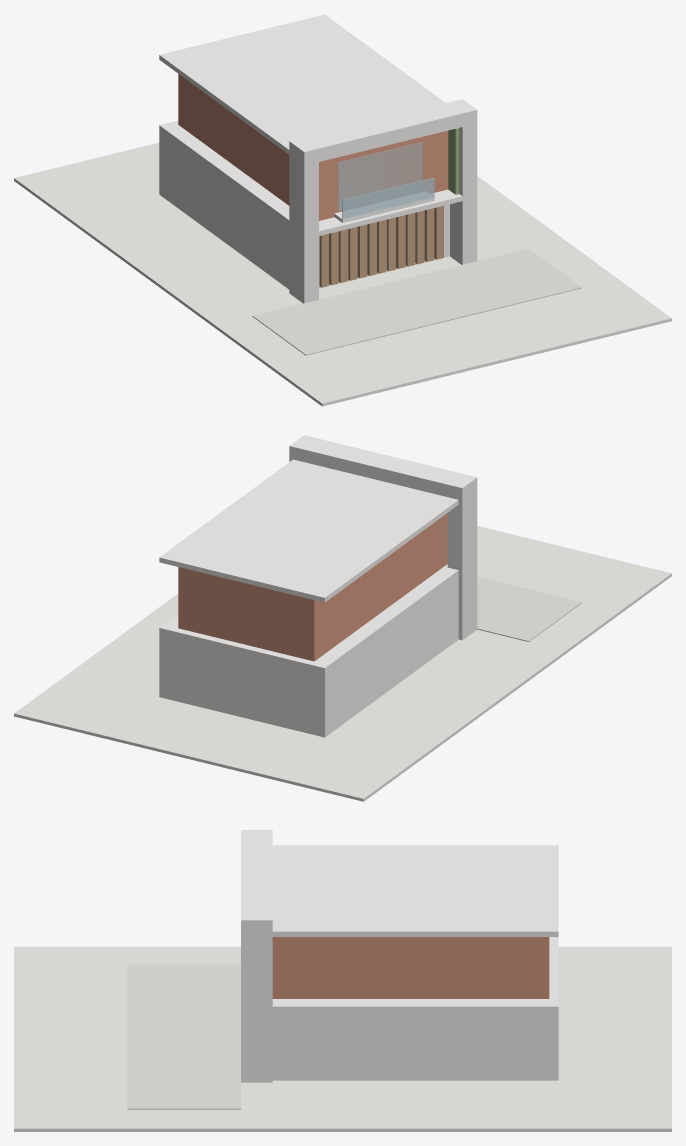
File: t-residence.glb
3 renders of one model, top to bottom at view 1: azimuth 30°, elevation 25°; view 2: azimuth 150°, elevation 25°; view 3: azimuth 270°, elevation 25°, orthographic. The views are drawn at different scales.
Parts seen in each view (by area): view 1: site-site, roof-white, site-paving, floor-1-brick, floor-0-white, floor-0-timber, floor-1-glass, floor-1-white, floor-1-green; view 2: site-site, roof-white, floor-0-white, floor-1-brick, site-paving, floor-1-white; view 3: site-site, roof-white, floor-0-white, floor-1-brick, site-paving, floor-1-white.
Part boxes in pixels (x1,y1,x2,y2): site-site: (14,142,671,406); roof-white: (159,14,477,303); site-paving: (252,248,581,355); floor-1-brick: (178,74,448,220); floor-0-white: (159,127,449,289); floor-0-timber: (319,205,443,287); floor-1-glass: (338,142,434,219); floor-1-white: (159,120,468,238); floor-1-green: (448,128,459,194); site-site: (14,526,671,801); roof-white: (159,435,477,640); floor-0-white: (159,575,458,737); floor-1-brick: (178,513,447,661); site-paving: (477,577,581,641); floor-1-white: (159,564,458,672); site-site: (14,946,671,1131); roof-white: (241,830,558,1082); floor-0-white: (272,1009,558,1080); floor-1-brick: (272,937,549,998); site-paving: (127,964,240,1109); floor-1-white: (272,937,558,1011).
Size of the model in its own units: 19 by 8.05 by 29.
